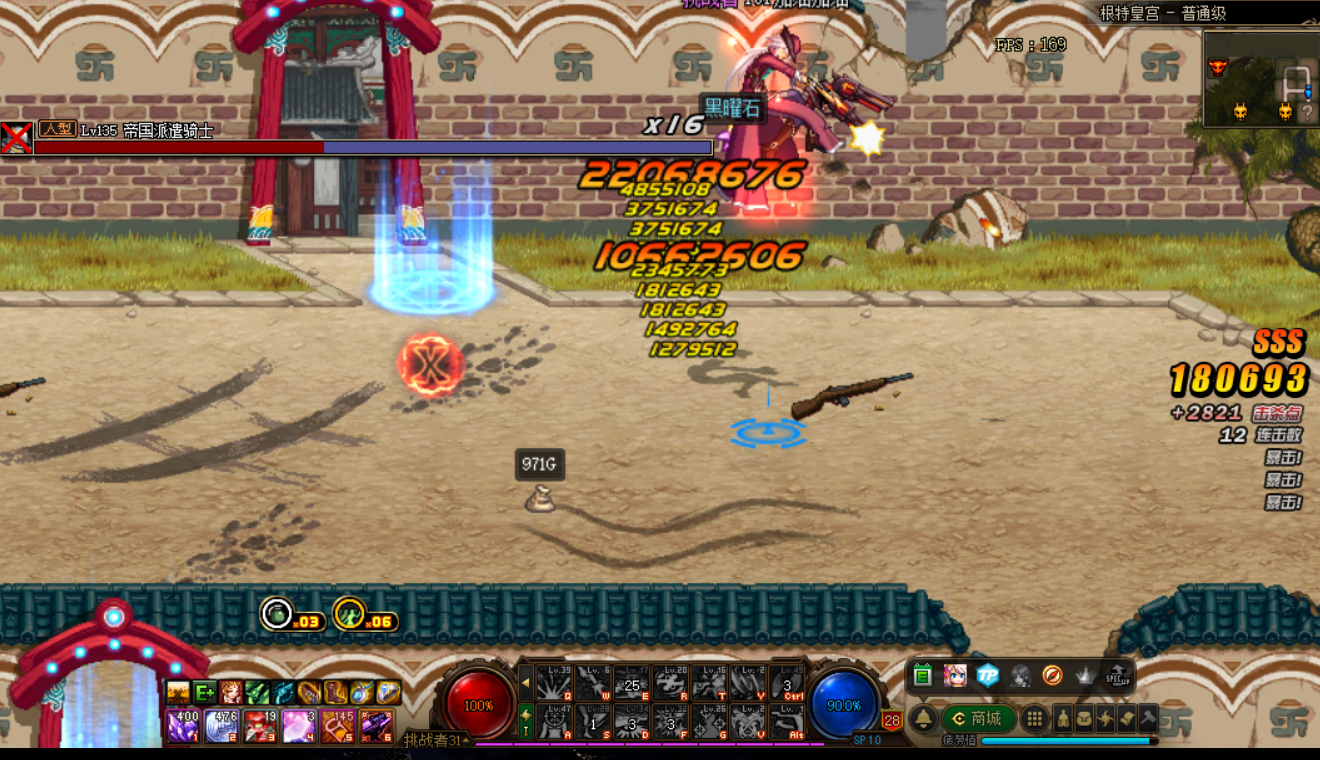warrior: (708, 31, 889, 206)
